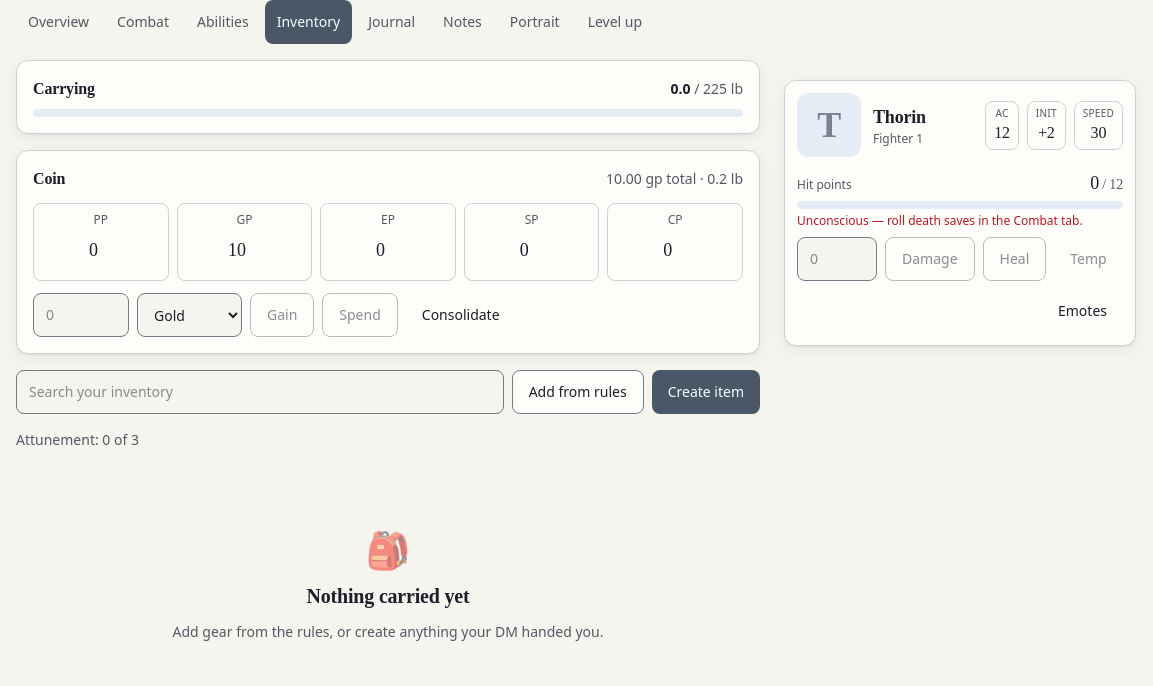
Test case: currency › refuses to spend more than the purse holds
The width and height of the screenshot is (1153, 686).
Expected: the heading "Coin" is shown, [33,167,65,191]
Type "999" into the number field named "Amount of coin".
click(81, 315); type("999")  # box [33,293,129,337]
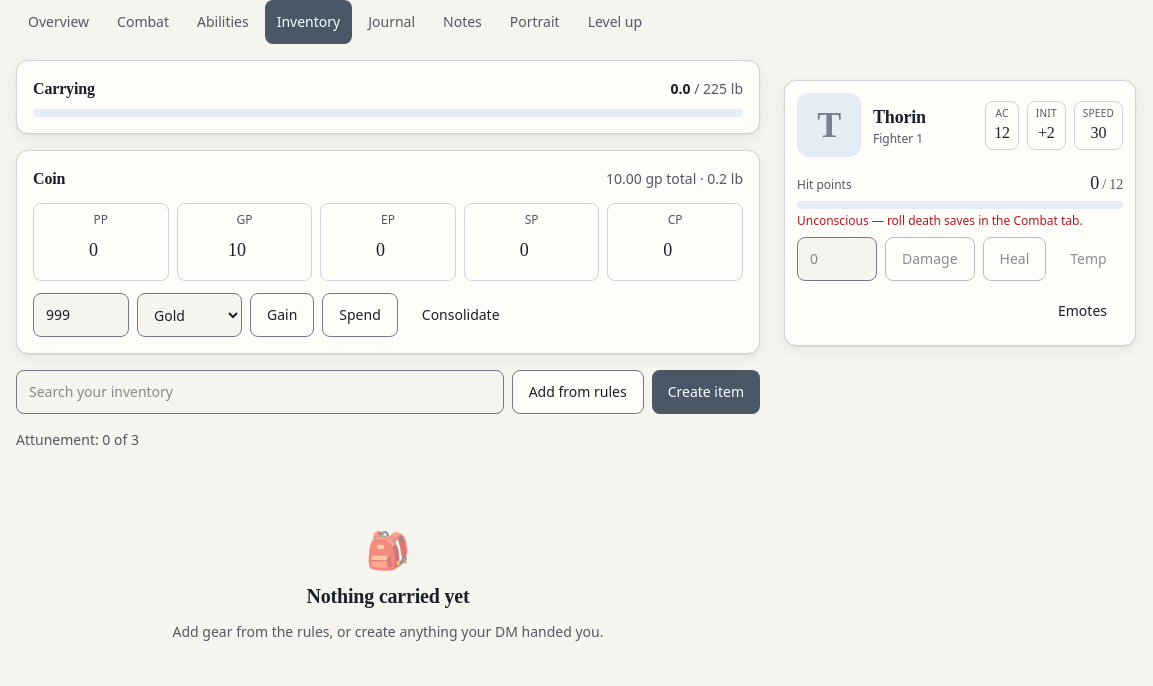
Click the button "Spend".
click(360, 315)  # box [322,293,398,337]
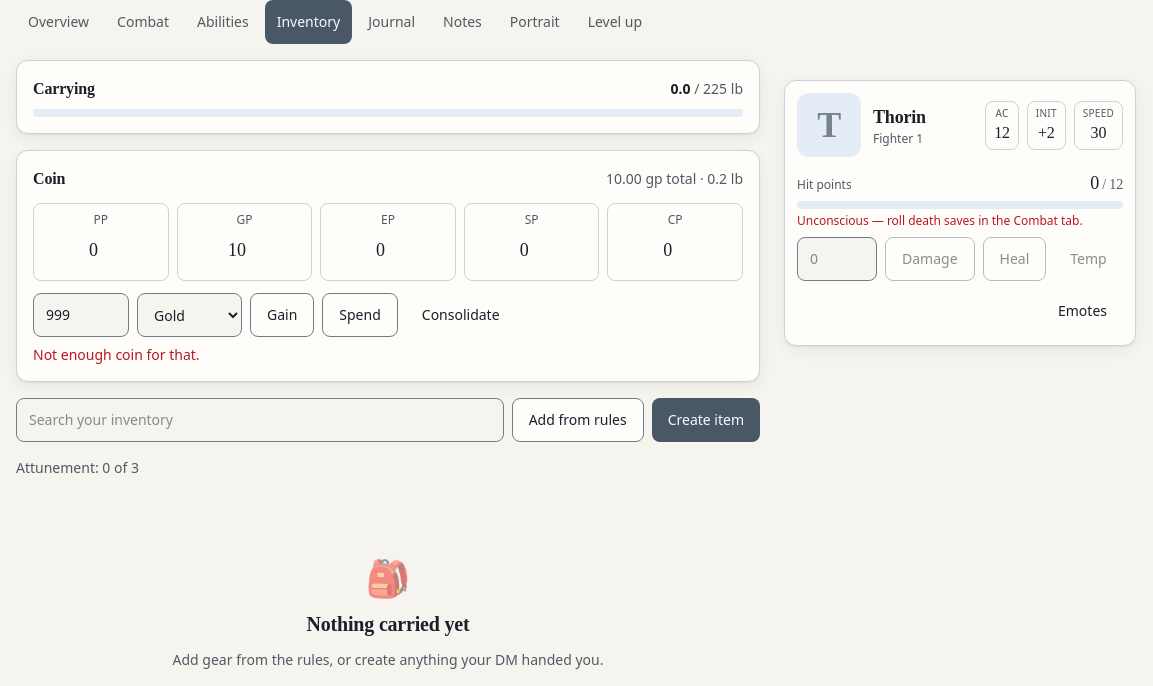
Now the text "Not enough coin for that." is shown, box [33,345,200,364]
